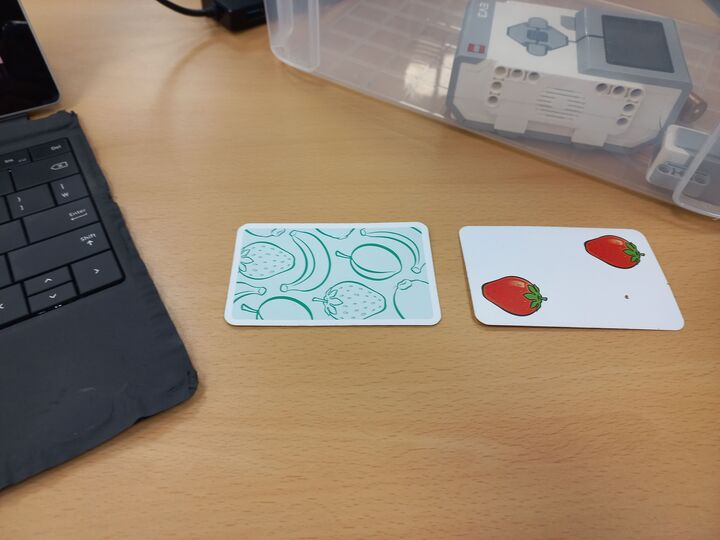strawberry2: (457, 221, 686, 333)
